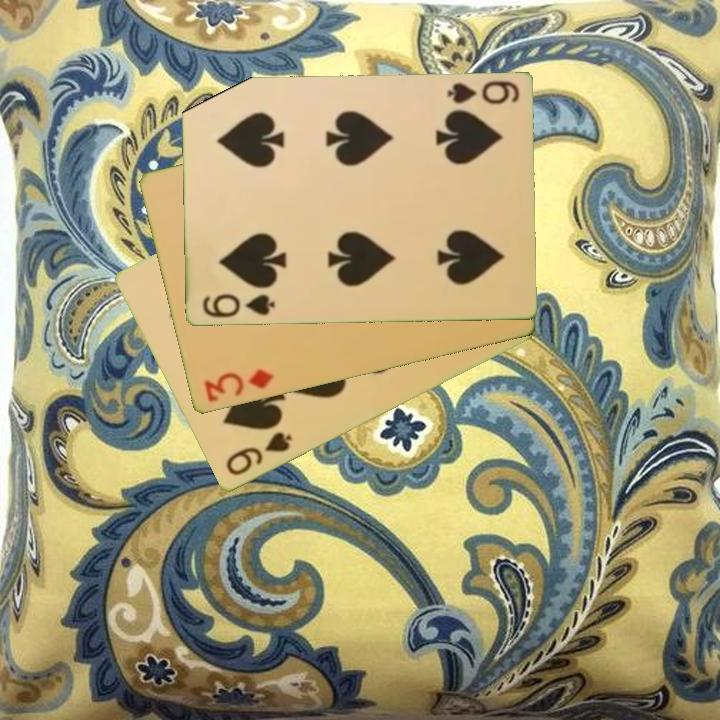3d: (200, 365, 276, 406)
6s: (443, 78, 522, 108), (199, 291, 277, 321)
9s: (222, 428, 295, 479)
